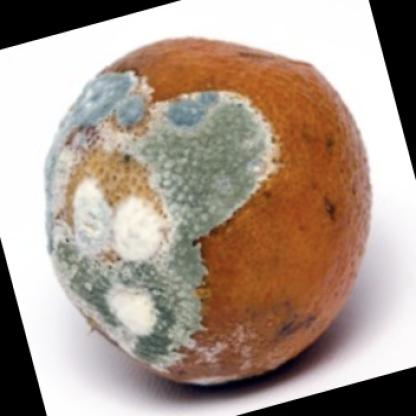rotten: (47, 39, 371, 387)
